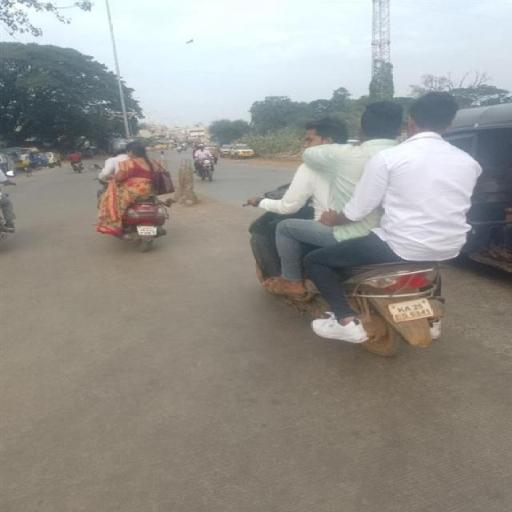tripple riding: (238, 89, 492, 259)
